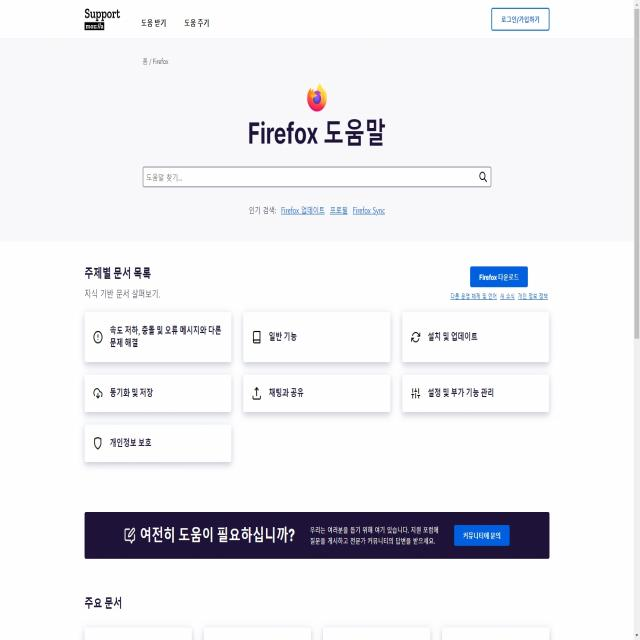menu-bar: (135, 10, 215, 33)
search: (141, 163, 493, 189)
